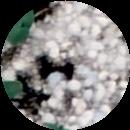Basil: (9, 9, 36, 43)
